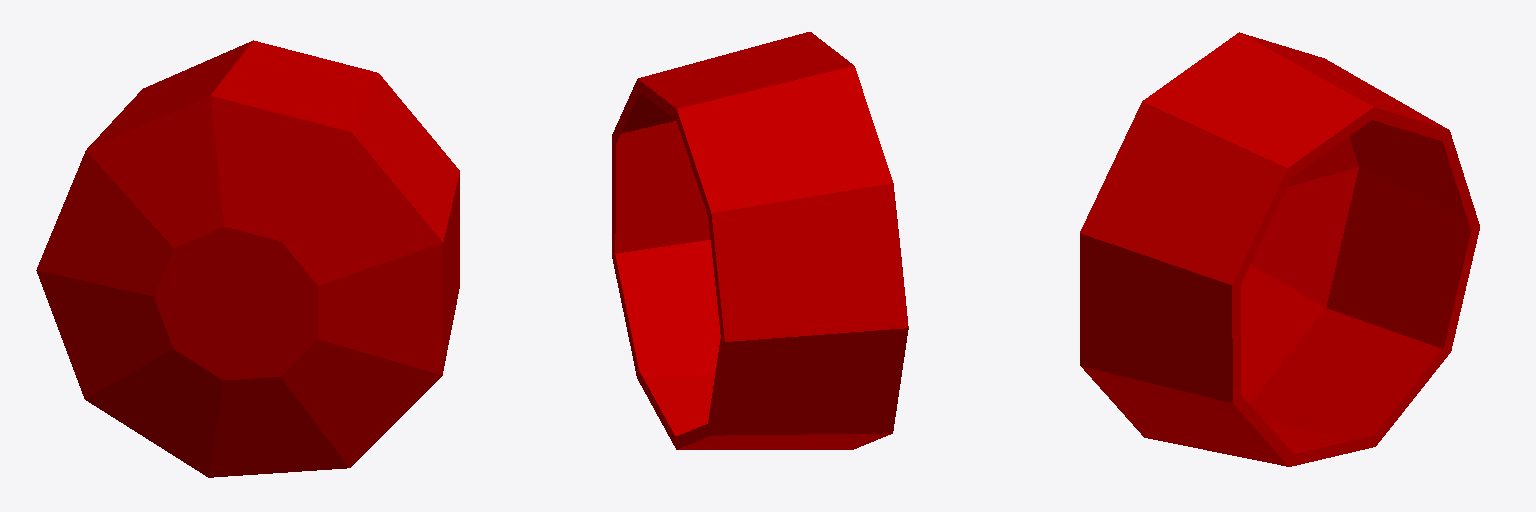
Rendered from Torso_emergencybutton.obj.
3 views of the same model, side by side, from view 1: azimuth 30°, elevation 25°; view 2: azimuth 150°, elevation 25°; view 3: azimuth 270°, elevation 25° (orthographic).
Size of the model in its own units: 0.0309 by 0.0314 by 0.0298.